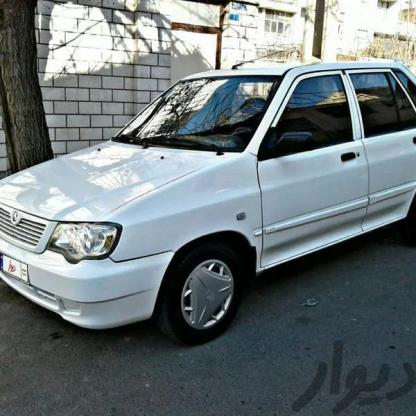Car: (0, 52, 416, 346)
